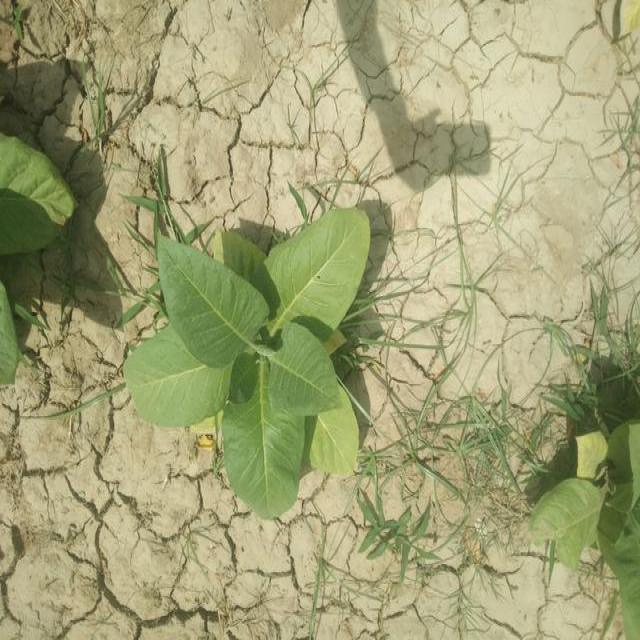crop: (132, 203, 372, 506), (535, 415, 640, 640), (0, 133, 74, 276), (0, 281, 22, 392)
